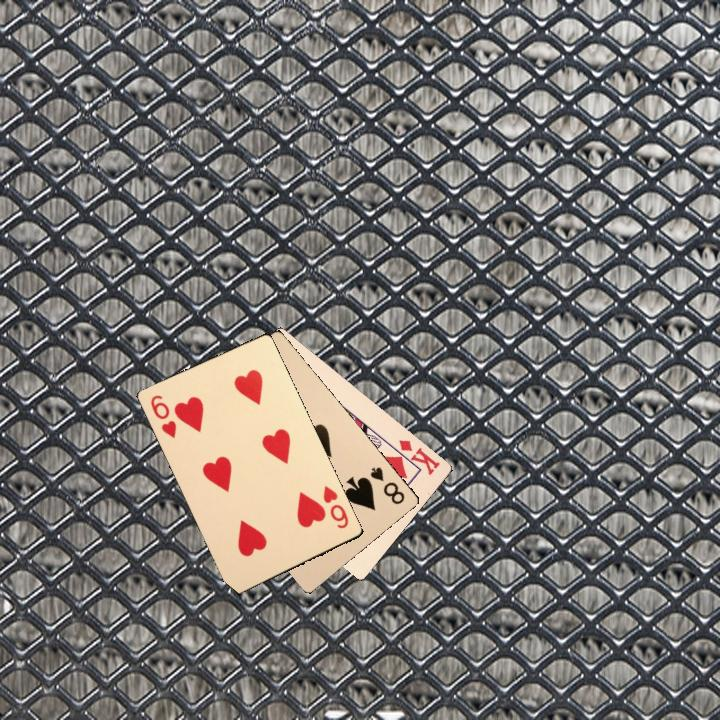6h: (146, 391, 179, 441), (319, 483, 351, 531)
8s: (366, 462, 408, 507)
Kd: (390, 436, 443, 478)
